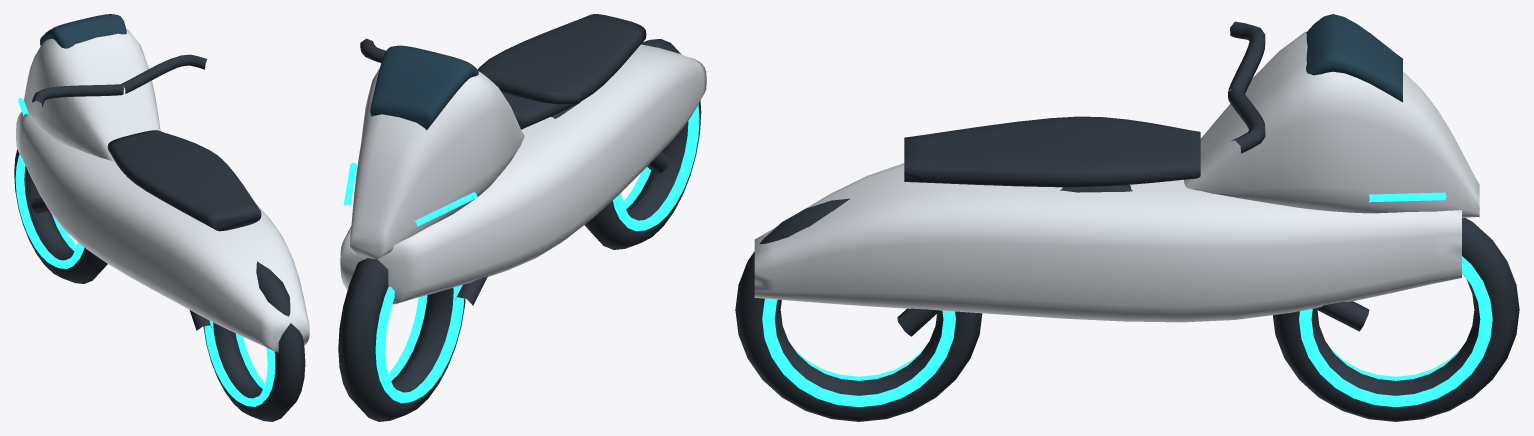
The model's file is hover_bike.gltf.
The picture shows the model from 3 angles, left to right: view 1: azimuth 30°, elevation 25°; view 2: azimuth 150°, elevation 25°; view 3: azimuth 270°, elevation 25°; orthographic projection. The views are drawn at different scales.
Parts seen in each view (by area): view 1: hover_bike; view 2: hover_bike; view 3: hover_bike.
Part boxes in pixels (x1=…): hover_bike: x1=14, y1=14, x2=309, y2=421; hover_bike: x1=338, y1=14, x2=706, y2=421; hover_bike: x1=735, y1=14, x2=1519, y2=421.
Bounding box in the file's own units: 0.8329 × 1.24 × 2.25.
